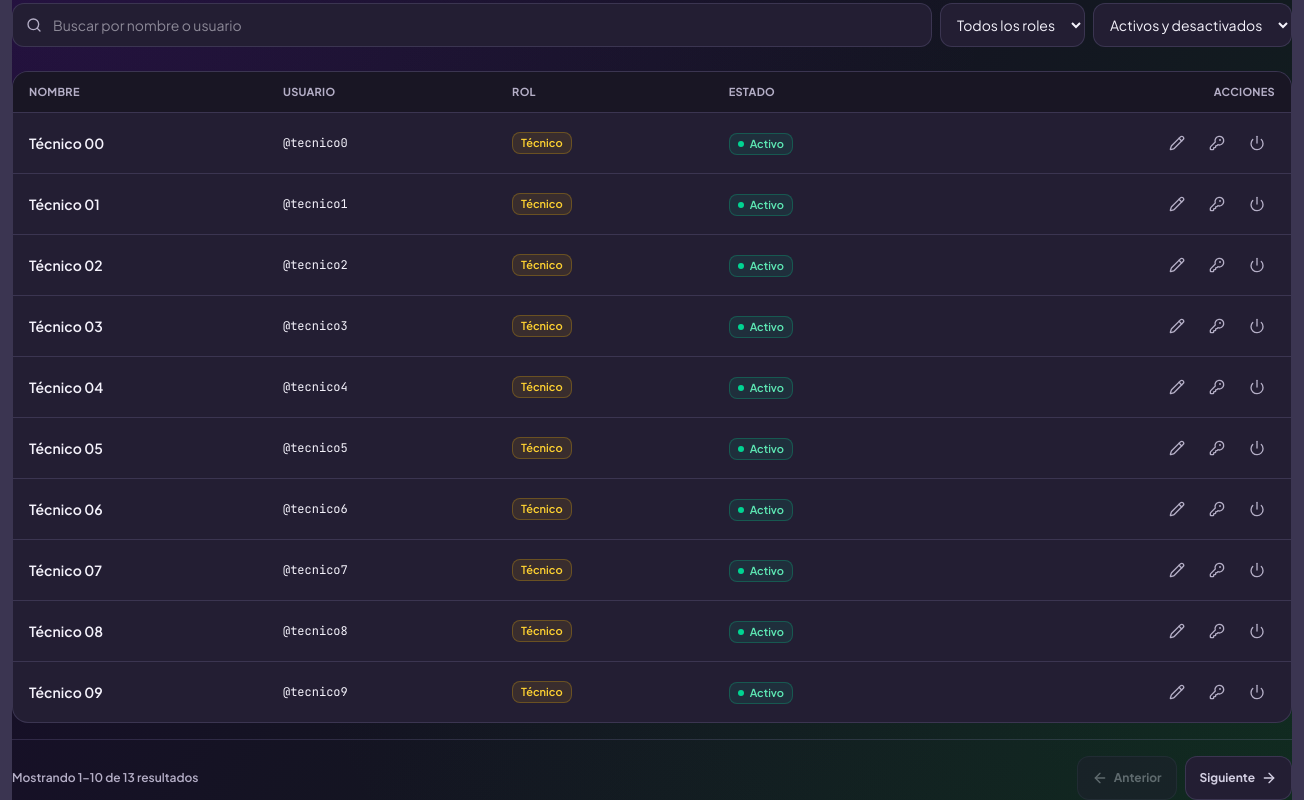
Test: UsersPage listing › paginates long lists [008/RF-1.3]
The width and height of the screenshot is (1304, 800).
(page scrolled)
expect the text "Técnico 00" is shown: met, box top-left (13, 112), bottom-right (267, 173)
expect the text "Técnico 12" is not shown: met
Click the button "Siguiente". click: (1238, 778)
box: top-left (1184, 756), bottom-right (1292, 799)
(page scrolled)
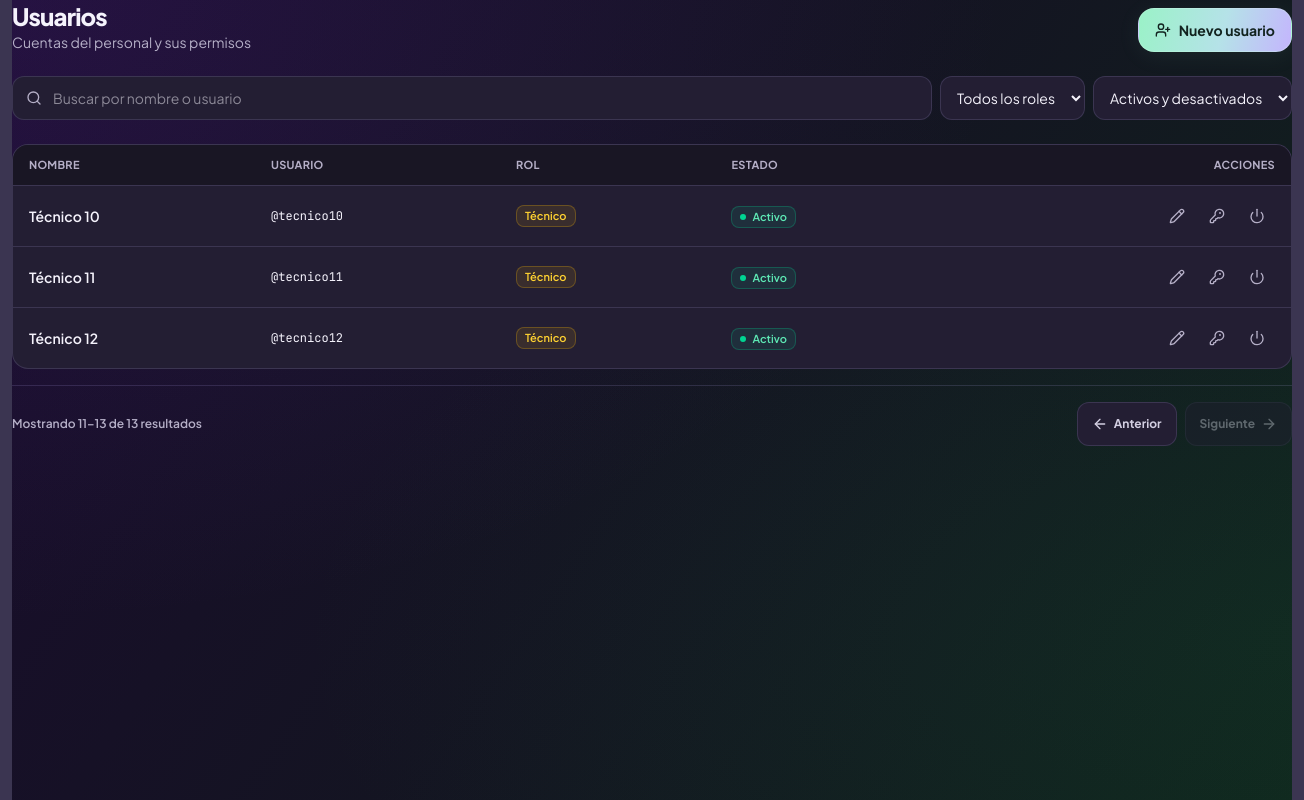
expect the text "Técnico 12" is shown: met, box top-left (13, 307), bottom-right (255, 368)
